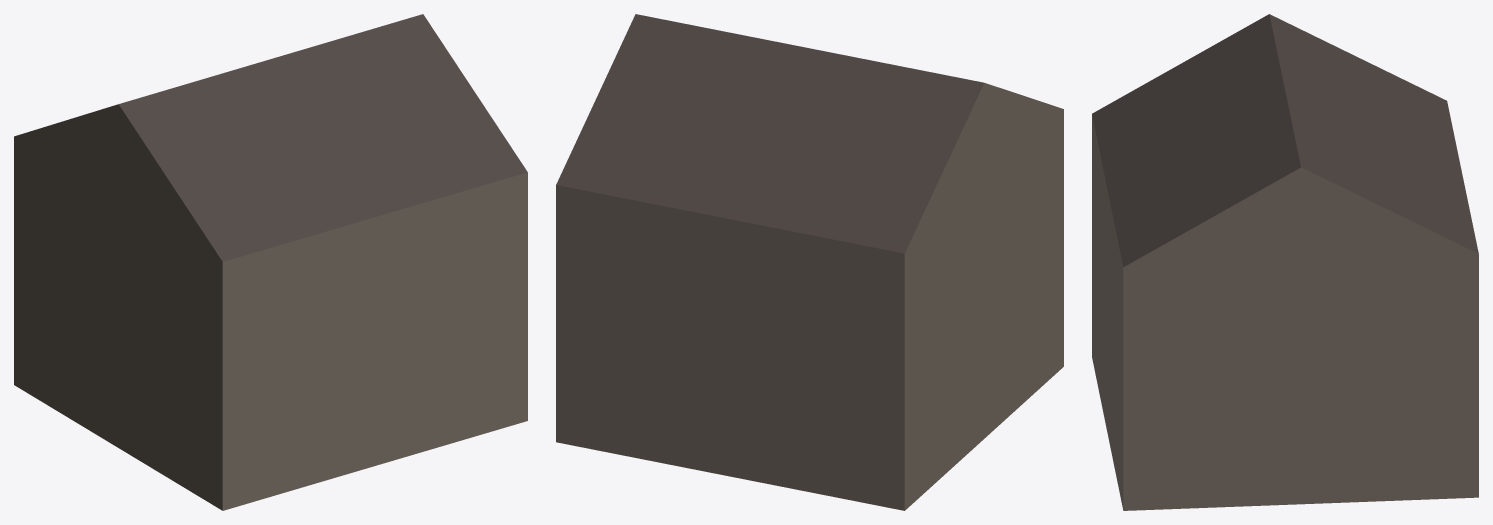
3 views of the same model, side by side, from view 1: azimuth 30°, elevation 25°; view 2: azimuth 150°, elevation 25°; view 3: azimuth 270°, elevation 25° (orthographic). The views are drawn at different scales.
Visible parts, largest first — view 1: HP-w859424251; view 2: HP-w859424251; view 3: HP-w859424251.
Boxes of the visible parts, x1=… form: HP-w859424251: x1=14, y1=14, x2=527, y2=510; HP-w859424251: x1=556, y1=14, x2=1063, y2=510; HP-w859424251: x1=1092, y1=14, x2=1478, y2=510.
Size of the model in its own units: 8.8 by 8.3 by 8.64.
